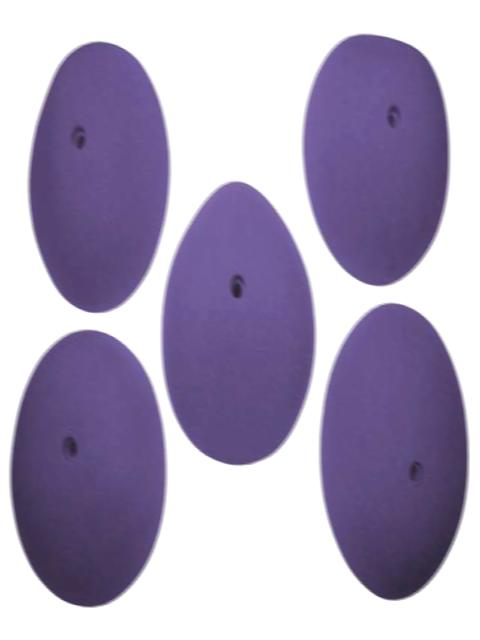sloper: (320, 305, 468, 596), (162, 183, 314, 463), (11, 331, 166, 603), (30, 43, 168, 311), (303, 35, 449, 283)
